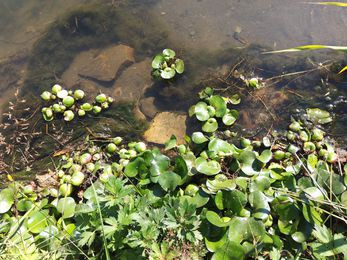water_hyacinth: (180, 78, 255, 148)
